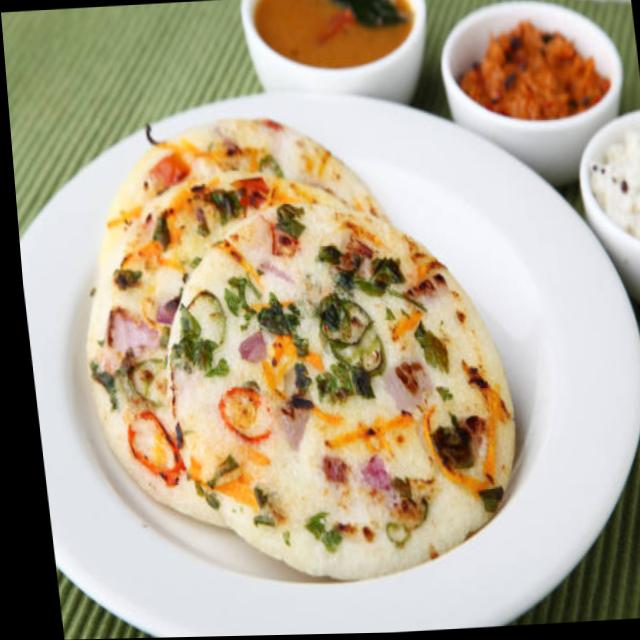DOSA: (83, 119, 510, 574)
RED CHUTNEY: (461, 18, 609, 119)
SAMBAR: (258, 0, 414, 67)
WHITE CHUTNEY: (589, 132, 640, 243)
